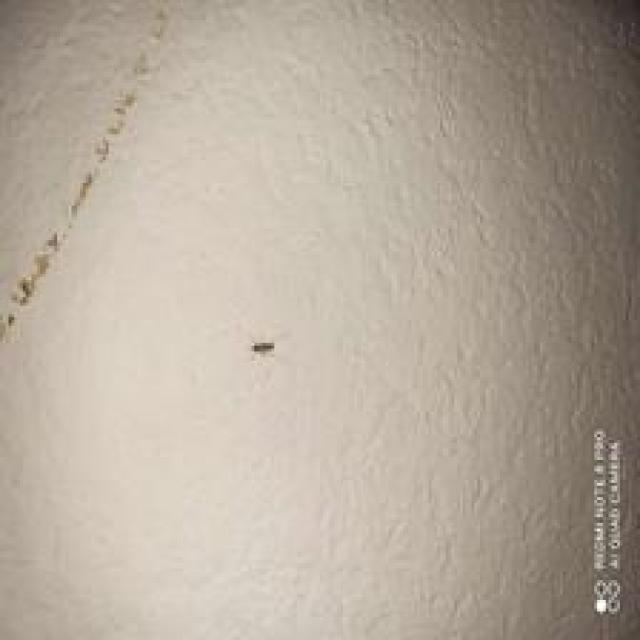Culex: (252, 340, 274, 354)
